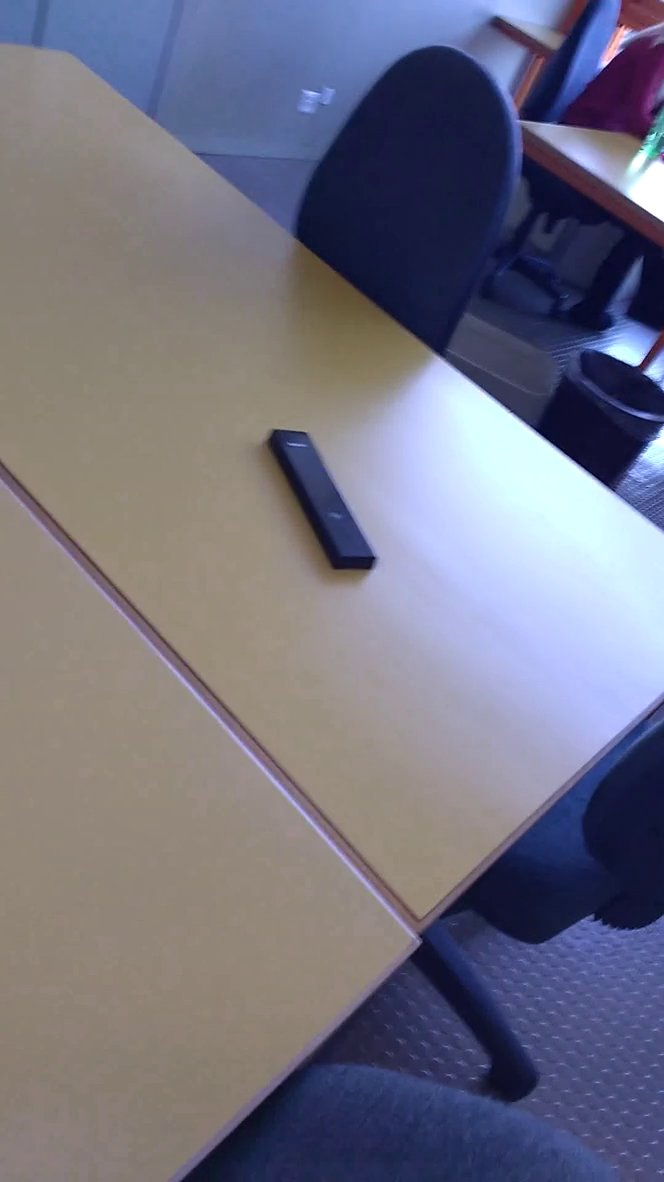bin: (529, 329, 664, 514)
chair: (286, 35, 541, 370)
remote: (259, 419, 379, 589)
